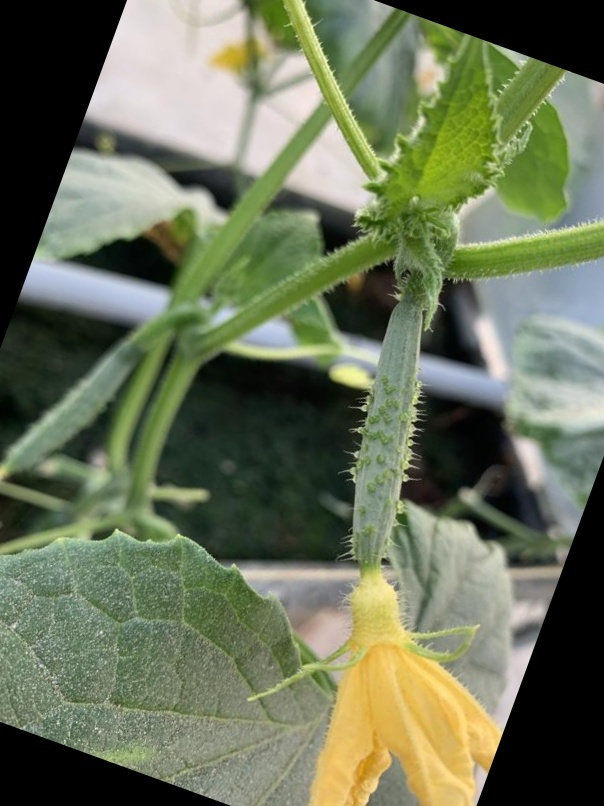bear: (263, 282, 449, 778)
flowering: (319, 286, 443, 749)
